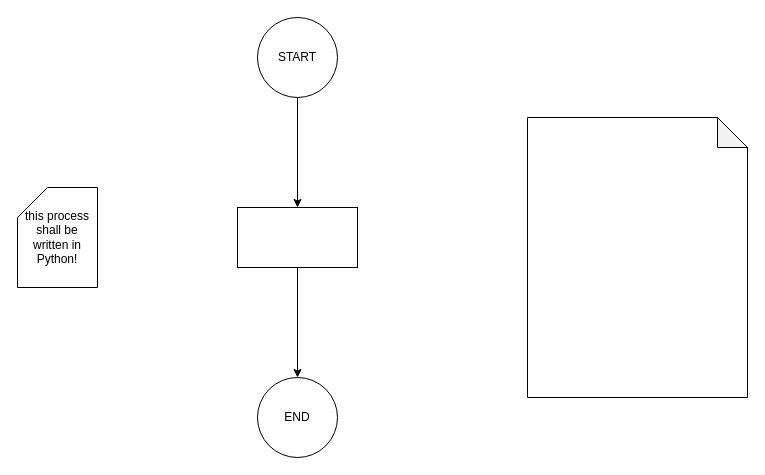
This 765x475 diagram has some shape labels left out. The shapes that lost their labels are listed below. From the top down, each one's box as (x1, y1, x2, y2) in pixels, then its label:
(236, 206, 358, 268): print: Hello!
(526, 116, 748, 398): Pseudo Code START PRINT "Hello!" END
